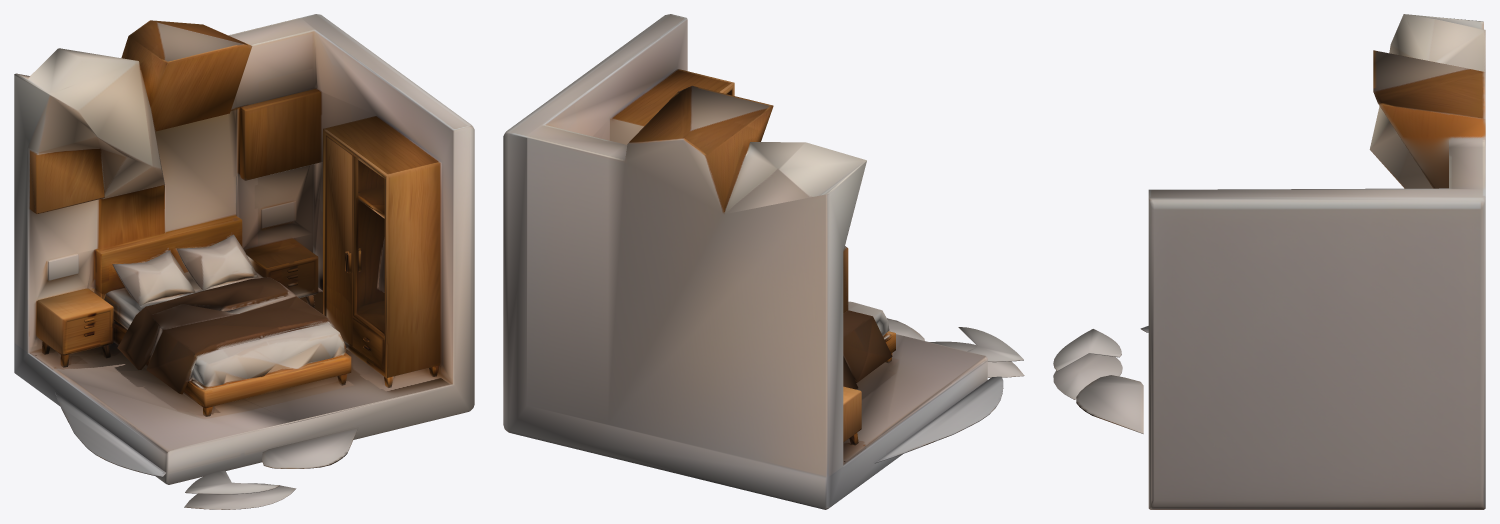
Rendered from bedroom.glb.
The picture shows the model from 3 angles, left to right: view 1: azimuth 30°, elevation 25°; view 2: azimuth 150°, elevation 25°; view 3: azimuth 270°, elevation 25°; orthographic projection. The views are drawn at different scales.
Visible parts, largest first — view 1: material; view 2: material; view 3: material.
Part boxes in pixels (box(x1,y1,x2,y2)): material: box(14, 14, 474, 509); material: box(503, 14, 1024, 509); material: box(1053, 14, 1485, 509).
Size of the model in its own units: 1.9 by 1.7 by 1.89.
Materials: 1 (1 with a texture image).
